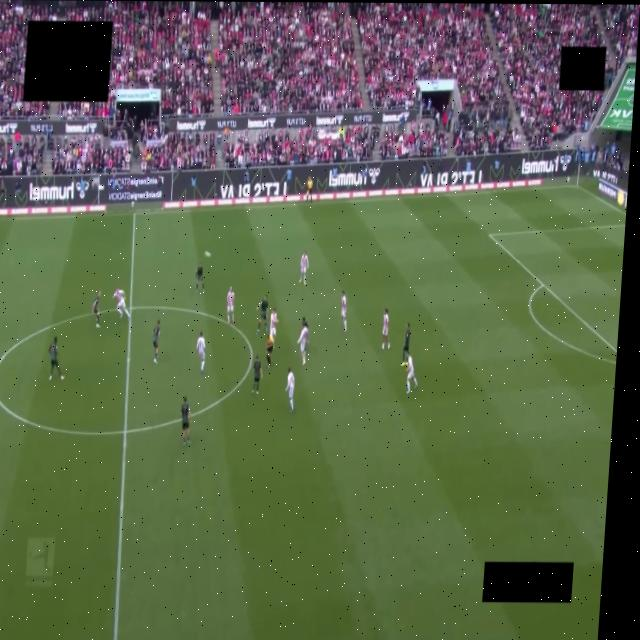ball: (204, 252, 210, 257)
player: (48, 337, 63, 380), (112, 289, 129, 318), (180, 397, 190, 445), (406, 355, 417, 394), (256, 295, 267, 334), (285, 368, 294, 411), (297, 326, 307, 364), (196, 332, 205, 373), (401, 323, 409, 365), (252, 356, 261, 393), (381, 308, 389, 349), (299, 250, 308, 284), (92, 290, 100, 328), (152, 321, 159, 363), (226, 287, 234, 323), (195, 264, 204, 293), (269, 308, 277, 339), (340, 291, 346, 332), (302, 317, 308, 326)
referee: (265, 335, 274, 368)
